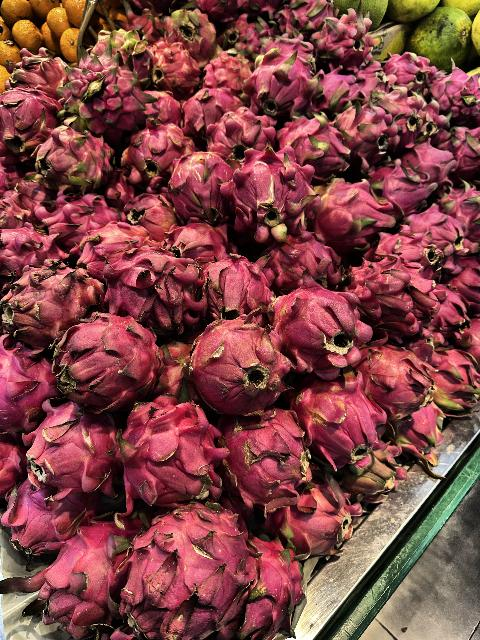buah-naga-belum-matang: (54, 53, 150, 144), (222, 152, 311, 235), (360, 341, 446, 414), (304, 180, 394, 244), (86, 16, 160, 88), (162, 149, 238, 219), (1, 49, 75, 100), (124, 192, 180, 240), (200, 48, 254, 94)
buah-naga-matang: (123, 500, 253, 640), (182, 320, 304, 418), (120, 397, 222, 508), (91, 244, 213, 332), (21, 398, 119, 504), (270, 280, 376, 372), (45, 314, 165, 394), (222, 407, 316, 509), (40, 516, 130, 622), (342, 243, 436, 341), (288, 378, 389, 467), (2, 260, 98, 336), (24, 122, 118, 196), (370, 225, 464, 292), (202, 242, 276, 326), (272, 112, 356, 178), (244, 46, 326, 112), (120, 119, 196, 185), (256, 235, 342, 291), (389, 198, 469, 258), (200, 108, 272, 172), (1, 79, 60, 153), (363, 156, 435, 216), (332, 98, 396, 162), (72, 220, 148, 272), (34, 194, 126, 236), (171, 81, 237, 130)
